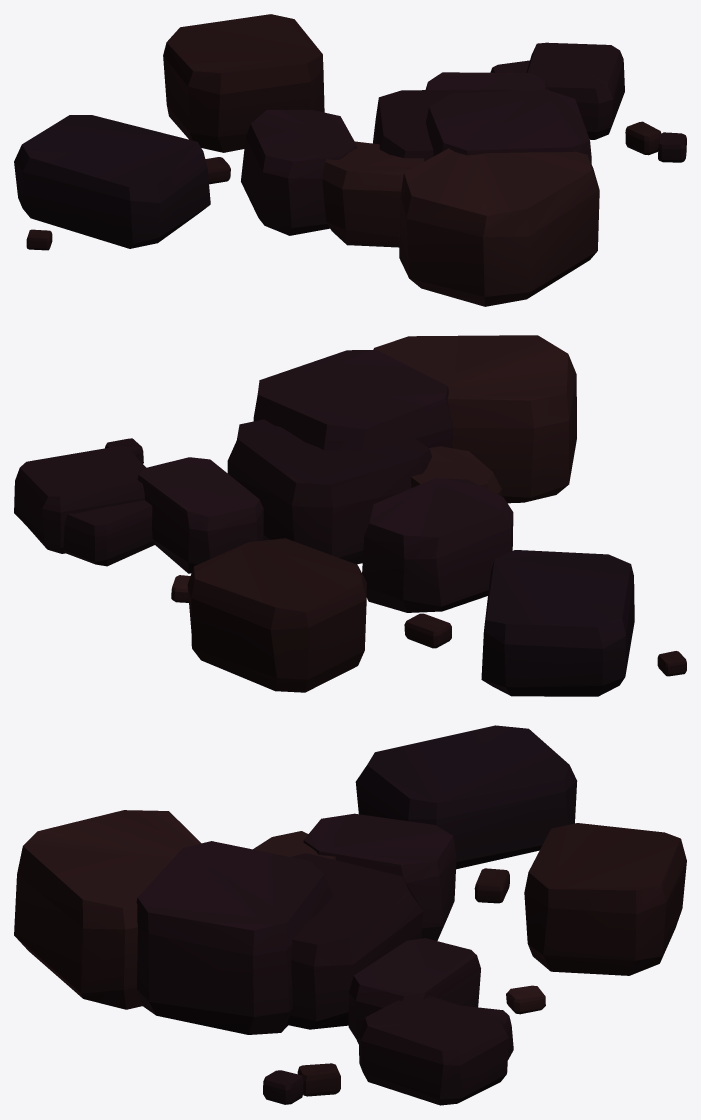
Rendered from FallenMasonry.fbx.
3 views of the same model, one above another, from view 1: azimuth 30°, elevation 25°; view 2: azimuth 150°, elevation 25°; view 3: azimuth 270°, elevation 25° (orthographic). The views are drawn at different scales.
Visible parts, largest first — view 1: RuinsMasonry.RuinsMasonry; view 2: RuinsMasonry.RuinsMasonry; view 3: RuinsMasonry.RuinsMasonry.
Boxes of the visible parts, x1,y1,x2,y2 form: RuinsMasonry.RuinsMasonry: [14, 14, 686, 306]; RuinsMasonry.RuinsMasonry: [14, 335, 686, 696]; RuinsMasonry.RuinsMasonry: [14, 725, 686, 1105].
Bounding box in the file's own units: 1.72 × 0.2861 × 1.49.
